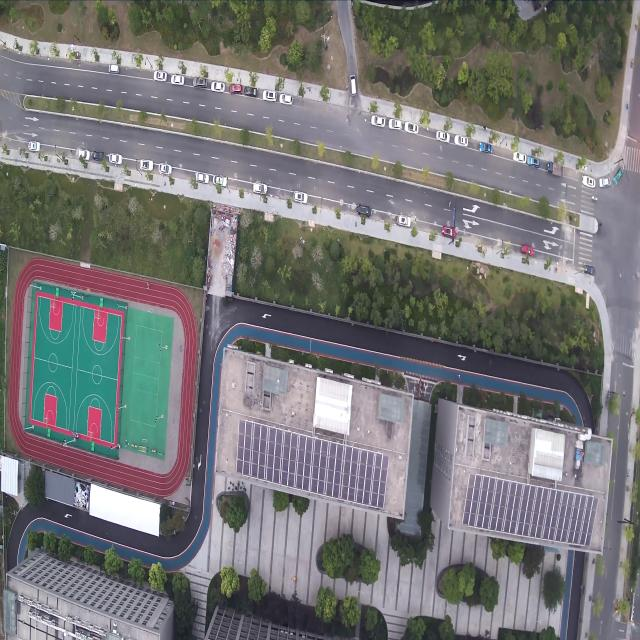UAV: (340, 412, 343, 417)
